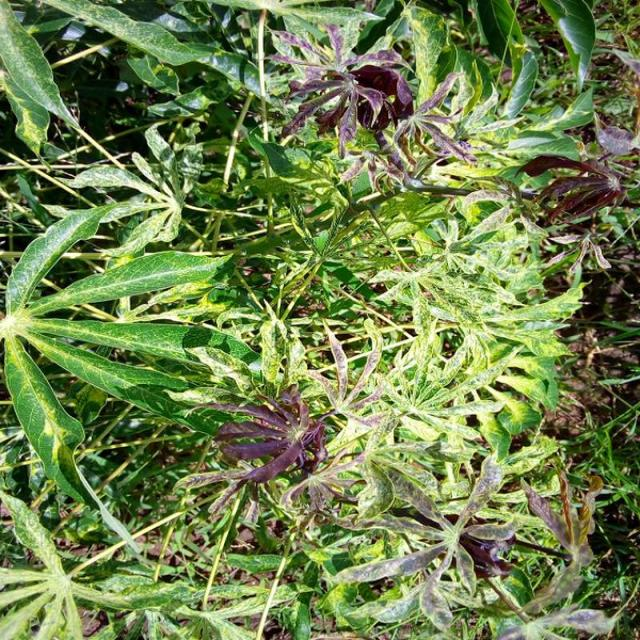cassava leaf: (1, 0, 622, 638), (2, 197, 262, 514)
